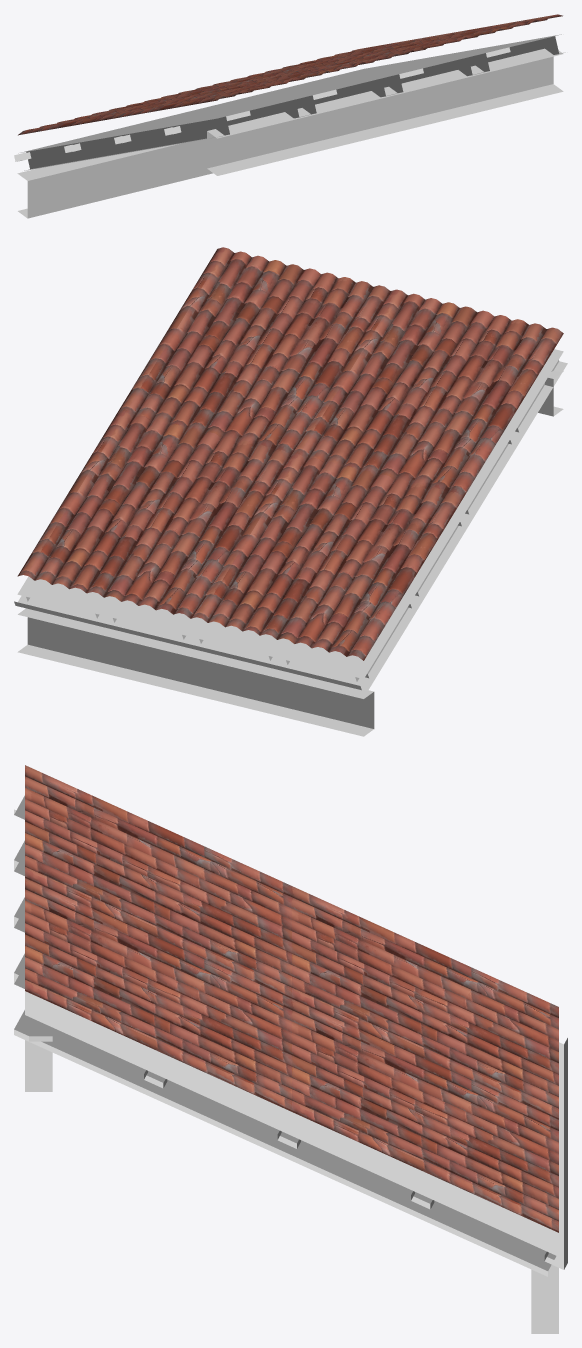
File: WallKit_Slope_LOD0.fbx
3 renders of one model, top to bottom at view 1: azimuth 30°, elevation 25°; view 2: azimuth 150°, elevation 25°; view 3: azimuth 270°, elevation 25°, orthographic. The views are drawn at different scales.
Parts seen in each view (by area): view 1: WallKit_Slope_LOD0; view 2: WallKit_Slope_LOD0; view 3: WallKit_Slope_LOD0.
Part boxes in pixels (box(x1,y1,x2,y2)): WallKit_Slope_LOD0: box(14, 14, 565, 218); WallKit_Slope_LOD0: box(14, 247, 567, 736); WallKit_Slope_LOD0: box(14, 765, 567, 1333).
Size of the model in its own units: 400 by 287 by 415.
